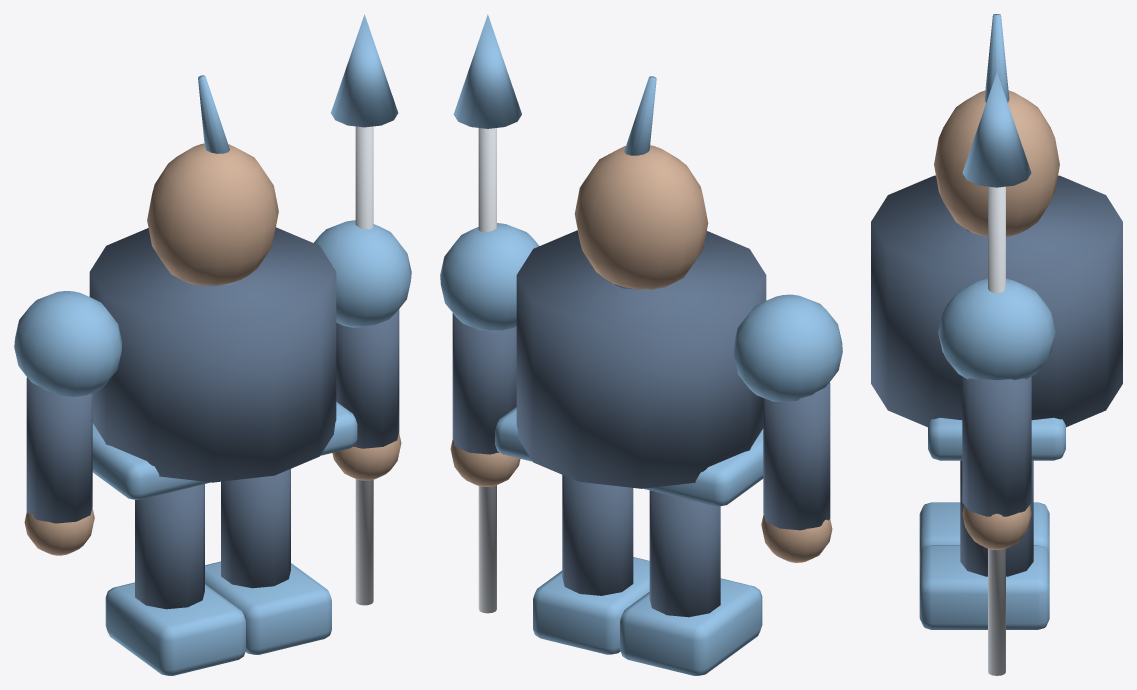
File: Dragoon_Placeholder.glb
3 views of the same model, side by side, from view 1: azimuth 30°, elevation 25°; view 2: azimuth 150°, elevation 25°; view 3: azimuth 270°, elevation 25° (orthographic). The views are drawn at different scales.
Visible parts, largest first — view 1: Dragoon_Placeholder_Export; view 2: Dragoon_Placeholder_Export; view 3: Dragoon_Placeholder_Export.
Part boxes in pixels (x1=…): Dragoon_Placeholder_Export: x1=14, y1=14, x2=411, y2=675; Dragoon_Placeholder_Export: x1=440, y1=14, x2=842, y2=675; Dragoon_Placeholder_Export: x1=871, y1=14, x2=1122, y2=675.
Size of the model in its own units: 133 by 196 by 74.4.
